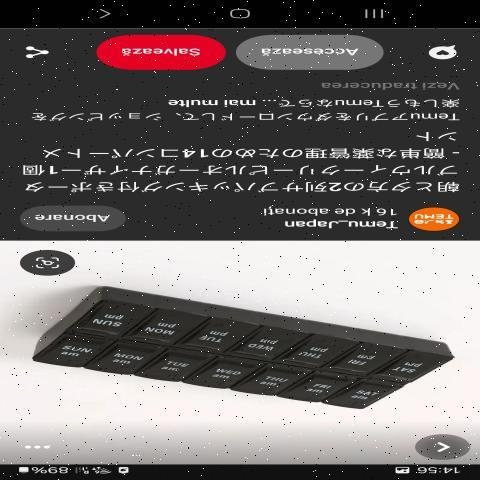PillBox: (7, 283, 457, 448)
